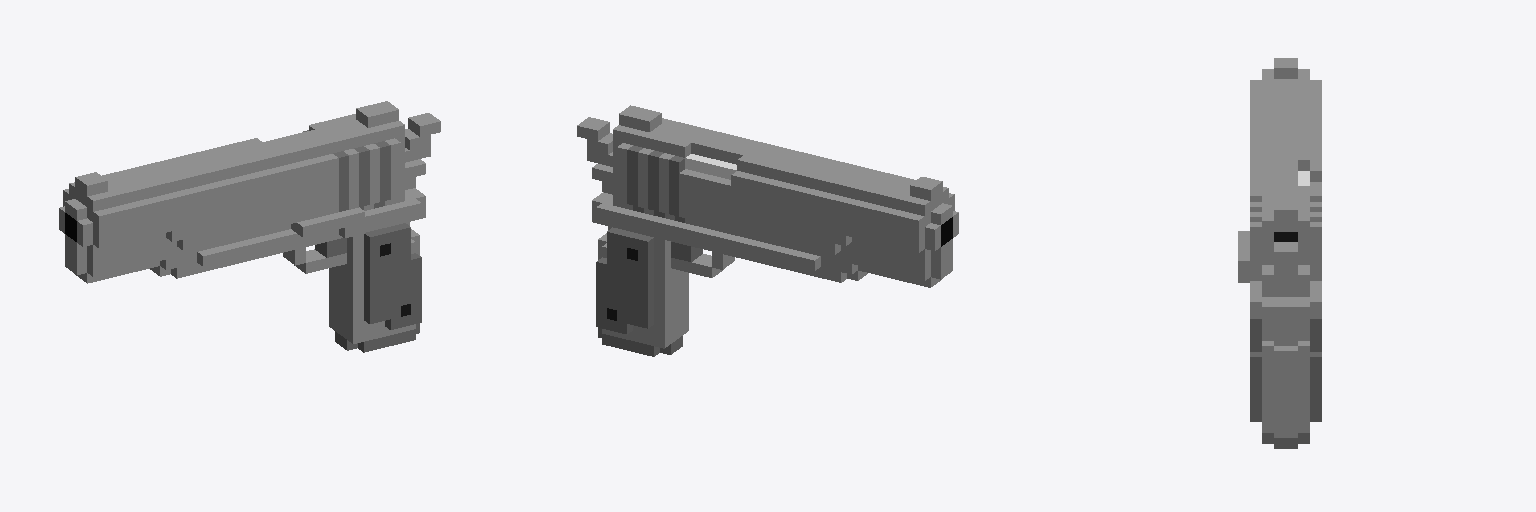
3 views of the same model, side by side, from view 1: azimuth 30°, elevation 25°; view 2: azimuth 150°, elevation 25°; view 3: azimuth 270°, elevation 25° (orthographic).
Visible parts, largest first — view 1: object 1; view 2: object 1; view 3: object 1.
Boxes of the visible parts, box(x1,y1,x2,y2) form: object 1: box(59, 101, 440, 352); object 1: box(577, 105, 958, 356); object 1: box(1238, 58, 1321, 448).
Size of the model in its own units: 3.5 by 2.1 by 0.7.
Materials: 1 (1 with a texture image).